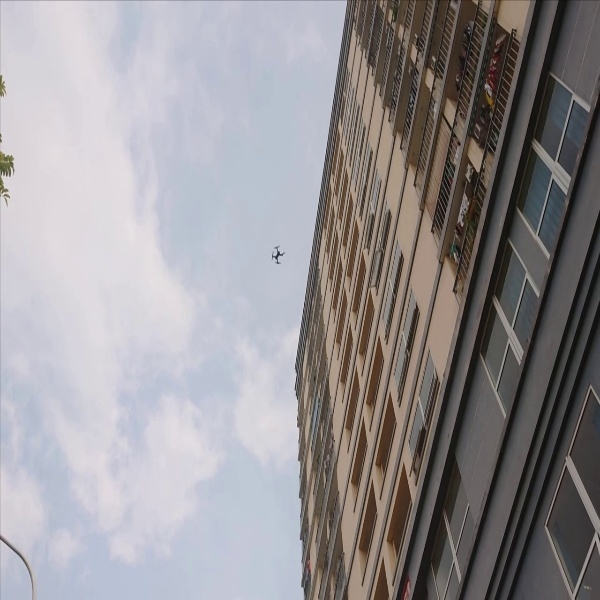drone: (265, 240, 288, 268)
